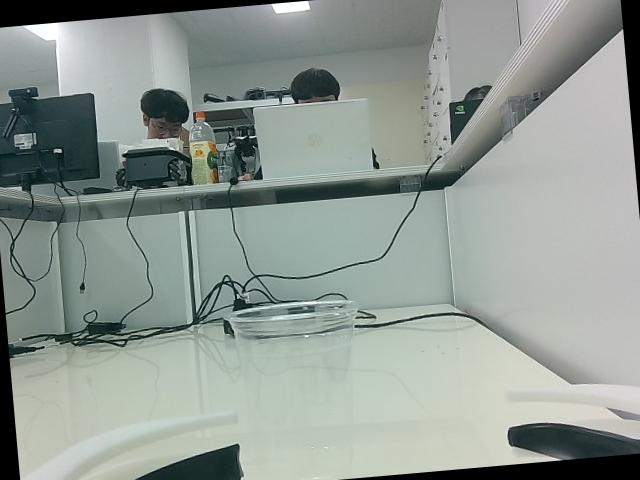Plastik: (225, 299, 356, 480)
